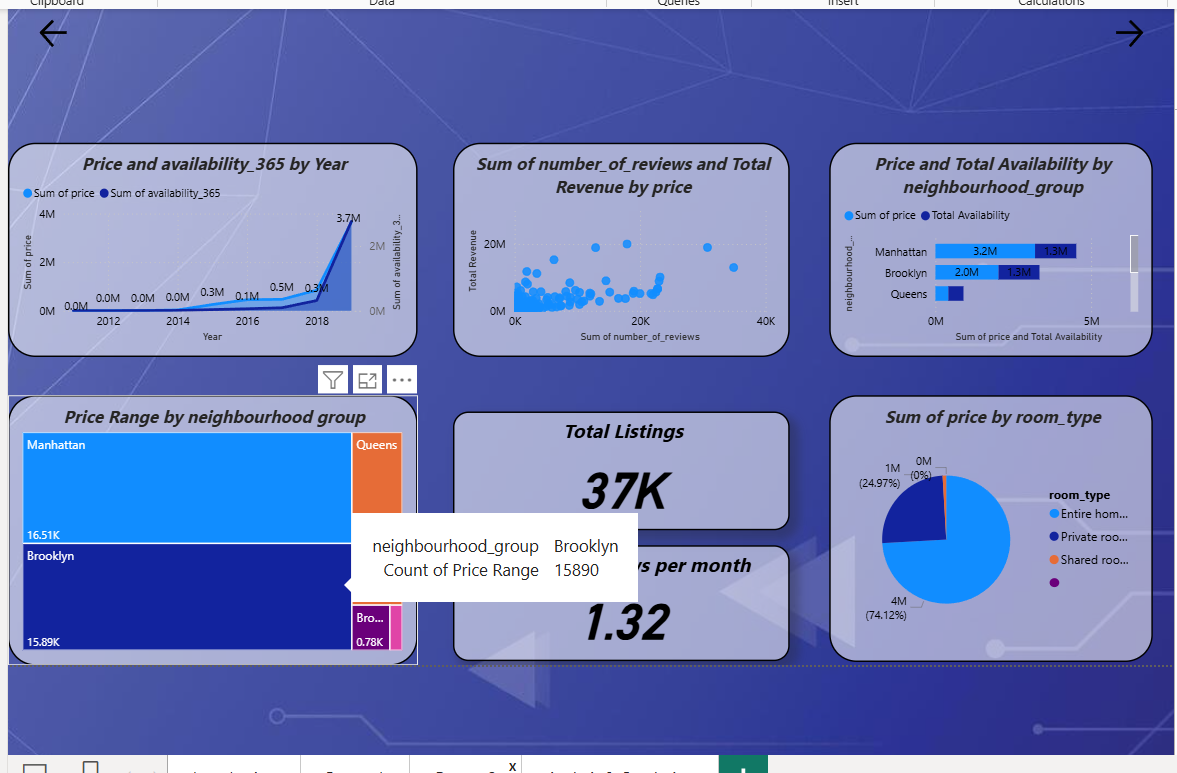

This screenshot's page, from the dashboard's own definition file:
{"tool":"powerbi","page":{"name":" Report_2","canvas":[1280,720],"ordinal":2},"visuals":[{"type":"card","title":"Average Reviews per month","fields":{"Values":["AB_NYC_2019.Average Reviews Per Month"]},"box":[488.1,589.3,369.9,127.2],"z":0},{"type":"card","title":"Total Listings","fields":{"Values":["AB_NYC_2019.Total Listings"]},"box":[488.1,441.5,369.9,130.7],"z":1000},{"type":"areaChart","title":" Price and  availability_365 by Year","fields":{"Category":["AB_NYC_2019.last_review.Variation.Date Hierarchy.Year","AB_NYC_2019.last_review.Variation.Date Hierarchy.Quarter"],"Y":["Sum(AB_NYC_2019.price)"],"Y2":["Sum(AB_NYC_2019.availability_365)"]},"box":[0,146.9,449.6,235.5],"z":2000},{"type":"scatterChart","fields":{"X":["Sum(AB_NYC_2019.number_of_reviews)"],"Y":["AB_NYC_2019.Total Revenue"],"Category":["AB_NYC_2019.price"]},"box":[488.1,146.9,369.9,235.5],"z":3000},{"type":"pieChart","fields":{"Y":["Sum(AB_NYC_2019.price)"],"Category":["AB_NYC_2019.room_type","AB_NYC_2019.neighbourhood_group"]},"box":[901.8,423.6,355.5,292.8],"z":4000},{"type":"barChart","title":" Price and Total Availability by neighbourhood_group","fields":{"Category":["AB_NYC_2019.neighbourhood_group"],"Y":["Sum(AB_NYC_2019.price)","AB_NYC_2019.Total Availability"]},"box":[901.8,146.9,355.5,235.5],"z":5000},{"type":"actionButton","box":[0,7,100,40],"z":6000},{"type":"actionButton","box":[1180,7,100,40],"z":7000},{"type":"treemap","title":"Price Range by neighbourhood group","fields":{"Group":["AB_NYC_2019.neighbourhood_group"],"Values":["CountNonNull(AB_NYC_2019.Price Range)"]},"box":[0,423.6,449.6,296.4],"z":8000}]}

Visuals, with their boxes in screenshot pixels (x1, y1, x2, y2):
"Average Reviews per month" card: crop(449, 544, 784, 659)
"Total Listings" card: crop(449, 410, 784, 528)
" Price and  availability_365 by Year" areaChart: crop(6, 142, 414, 356)
scatterChart - Sum(AB_NYC_2019.number_of_reviews) x AB_NYC_2019.Total Revenue: crop(449, 142, 784, 356)
pieChart - Sum(AB_NYC_2019.price) x AB_NYC_2019.room_type: crop(824, 393, 1146, 659)
" Price and Total Availability by neighbourhood_group" barChart: crop(824, 142, 1146, 356)
actionButton: crop(6, 16, 97, 52)
actionButton: crop(1076, 16, 1167, 52)
"Price Range by neighbourhood group" treemap: crop(6, 393, 414, 662)
